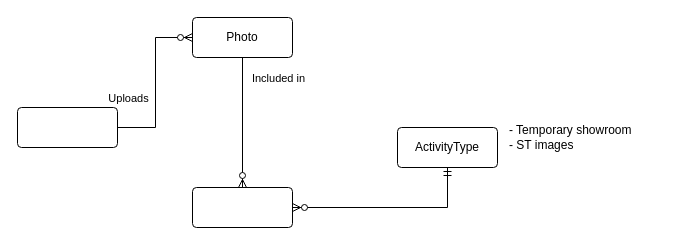
Image size: 675x245. Some labels were removed from this diagram. The shapes that lost their labels are listed below. From the top down, each one's centre as x and y in pixels, then its label:
At pixel 67 127: "User".
At pixel 242 207: "Activity".
